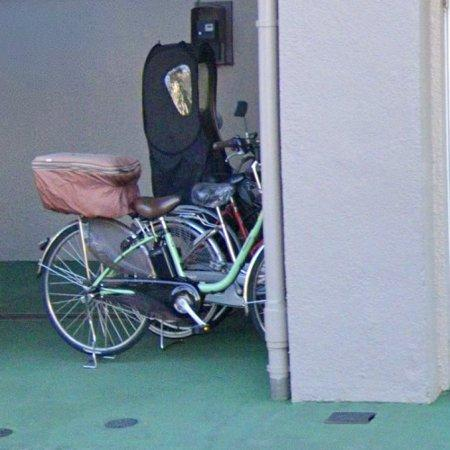bicycles: (39, 198, 266, 360)
